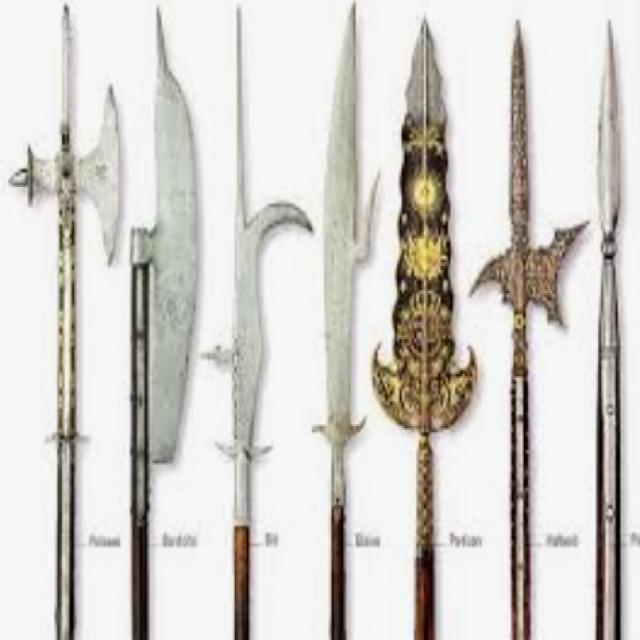spear: (466, 0, 591, 633), (25, 4, 133, 639), (210, 6, 318, 634), (376, 8, 486, 624), (110, 2, 214, 640), (302, 6, 388, 627), (586, 6, 632, 636)
